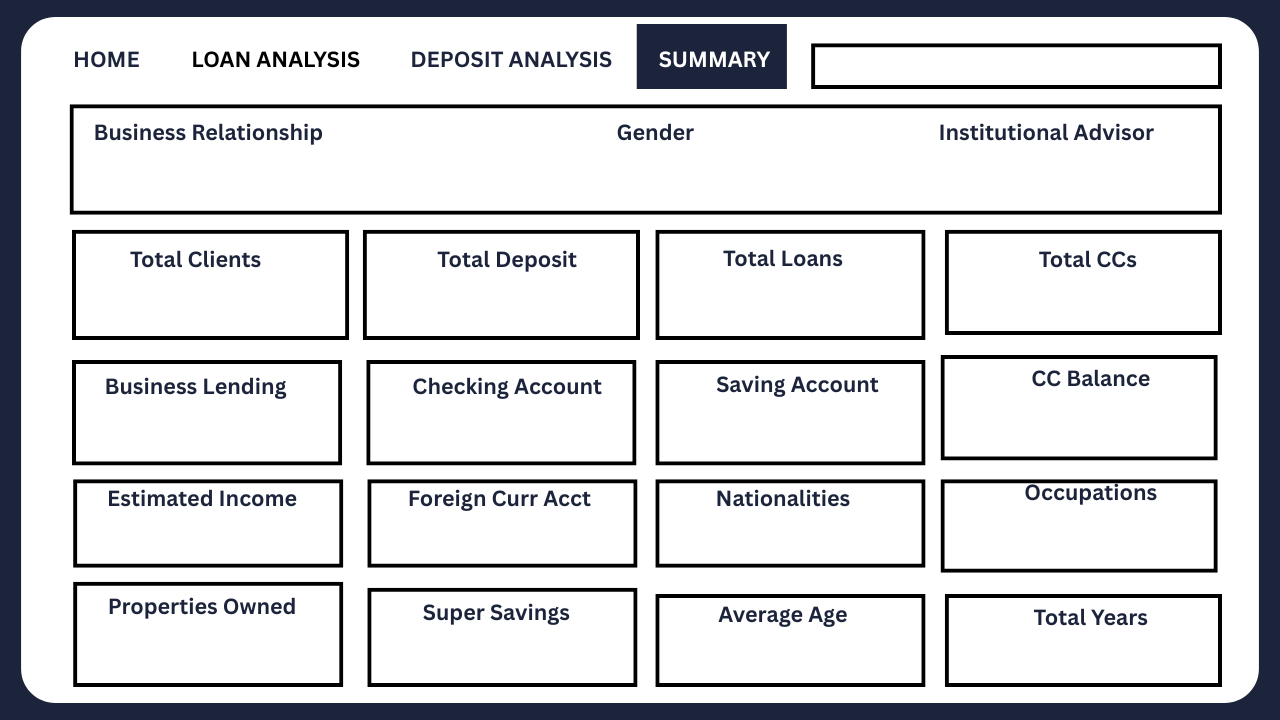

Layout of this report page (visuals, bound fields, positions):
{"tool":"powerbi","page":{"name":"Summary","canvas":[1280,720],"ordinal":3},"visuals":[{"type":"card","fields":{"Values":["CountNonNull(banking_case customer.Name)"]},"box":[128,281,144,48],"z":0},{"type":"card","fields":{"Values":["banking_case customer.Total Deposit"]},"box":[416,279,144,48],"z":1},{"type":"card","fields":{"Values":["banking_case customer.Total Loan"]},"box":[704,272,144,48],"z":2},{"type":"card","fields":{"Values":["Sum(banking_case customer.Amount of Credit Cards)"]},"box":[1008,272,144,48],"z":3},{"type":"card","fields":{"Values":["Sum(banking_case customer.Business Lending)"]},"box":[112,400,144,48],"z":4},{"type":"card","fields":{"Values":["Sum(banking_case customer.Checking Accounts)"]},"box":[416,400,176,48],"z":5},{"type":"card","fields":{"Values":["Sum(banking_case customer.Saving Accounts)"]},"box":[720,400,160,48],"z":6},{"type":"card","fields":{"Values":["Sum(banking_case customer.Credit Card Balance)"]},"box":[1008,400,144,48],"z":7},{"type":"card","fields":{"Values":["Count(banking_case customer.Occupation)"]},"box":[1008,512,144,48],"z":8},{"type":"card","fields":{"Values":["Count(banking_case customer.Year of Joining)"]},"box":[1024,624,144,48],"z":9},{"type":"card","fields":{"Values":["Avg(banking_case customer.Age)"]},"box":[720,624,144,48],"z":10},{"type":"card","fields":{"Values":["Sum(banking_case customer.Superannuation Savings)"]},"box":[432,624,144,48],"z":11},{"type":"card","fields":{"Values":["Sum(banking_case customer.Properties Owned)"]},"box":[112,624,144,48],"z":12},{"type":"card","fields":{"Values":["Sum(banking_case customer.Estimated Income)"]},"box":[112,512,176,48],"z":13},{"type":"card","fields":{"Values":["Sum(banking_case customer.Foreign Currency Account)"]},"box":[416,512,144,48],"z":14},{"type":"card","fields":{"Values":["Count(banking_case customer.Nationality)"]},"box":[720,512,144,48],"z":15},{"type":"slicer","fields":{"Values":["banking_case customer.BRId"]},"box":[80,144,440,64],"z":16},{"type":"slicer","fields":{"Values":["banking_case customer.GenderId"]},"box":[512,144,288,64],"z":17},{"type":"slicer","fields":{"Values":["banking_case customer.Institutional Advisor"]},"box":[816,152,400,52],"z":18},{"type":"slicer","fields":{"Values":["banking_case customer.Year of Joining"]},"box":[811,45,408,39],"z":19}]}

Visuals, with their boxes in screenshot pixels (x1, y1, x2, y2), scaled from the page's 1280x720 canvas onto the 1280x720 screenshot:
card - CountNonNull(banking_case customer.Name): {"left": 128, "top": 281, "right": 272, "bottom": 329}
card - banking_case customer.Total Deposit: {"left": 416, "top": 279, "right": 560, "bottom": 327}
card - banking_case customer.Total Loan: {"left": 704, "top": 272, "right": 848, "bottom": 320}
card - Sum(banking_case customer.Amount of Credit Cards): {"left": 1008, "top": 272, "right": 1152, "bottom": 320}
card - Sum(banking_case customer.Business Lending): {"left": 112, "top": 400, "right": 256, "bottom": 448}
card - Sum(banking_case customer.Checking Accounts): {"left": 416, "top": 400, "right": 592, "bottom": 448}
card - Sum(banking_case customer.Saving Accounts): {"left": 720, "top": 400, "right": 880, "bottom": 448}
card - Sum(banking_case customer.Credit Card Balance): {"left": 1008, "top": 400, "right": 1152, "bottom": 448}
card - Count(banking_case customer.Occupation): {"left": 1008, "top": 512, "right": 1152, "bottom": 560}
card - Count(banking_case customer.Year of Joining): {"left": 1024, "top": 624, "right": 1168, "bottom": 672}
card - Avg(banking_case customer.Age): {"left": 720, "top": 624, "right": 864, "bottom": 672}
card - Sum(banking_case customer.Superannuation Savings): {"left": 432, "top": 624, "right": 576, "bottom": 672}
card - Sum(banking_case customer.Properties Owned): {"left": 112, "top": 624, "right": 256, "bottom": 672}
card - Sum(banking_case customer.Estimated Income): {"left": 112, "top": 512, "right": 288, "bottom": 560}
card - Sum(banking_case customer.Foreign Currency Account): {"left": 416, "top": 512, "right": 560, "bottom": 560}
card - Count(banking_case customer.Nationality): {"left": 720, "top": 512, "right": 864, "bottom": 560}
slicer - banking_case customer.BRId: {"left": 80, "top": 144, "right": 520, "bottom": 208}
slicer - banking_case customer.GenderId: {"left": 512, "top": 144, "right": 800, "bottom": 208}
slicer - banking_case customer.Institutional Advisor: {"left": 816, "top": 152, "right": 1216, "bottom": 204}
slicer - banking_case customer.Year of Joining: {"left": 811, "top": 45, "right": 1219, "bottom": 84}
